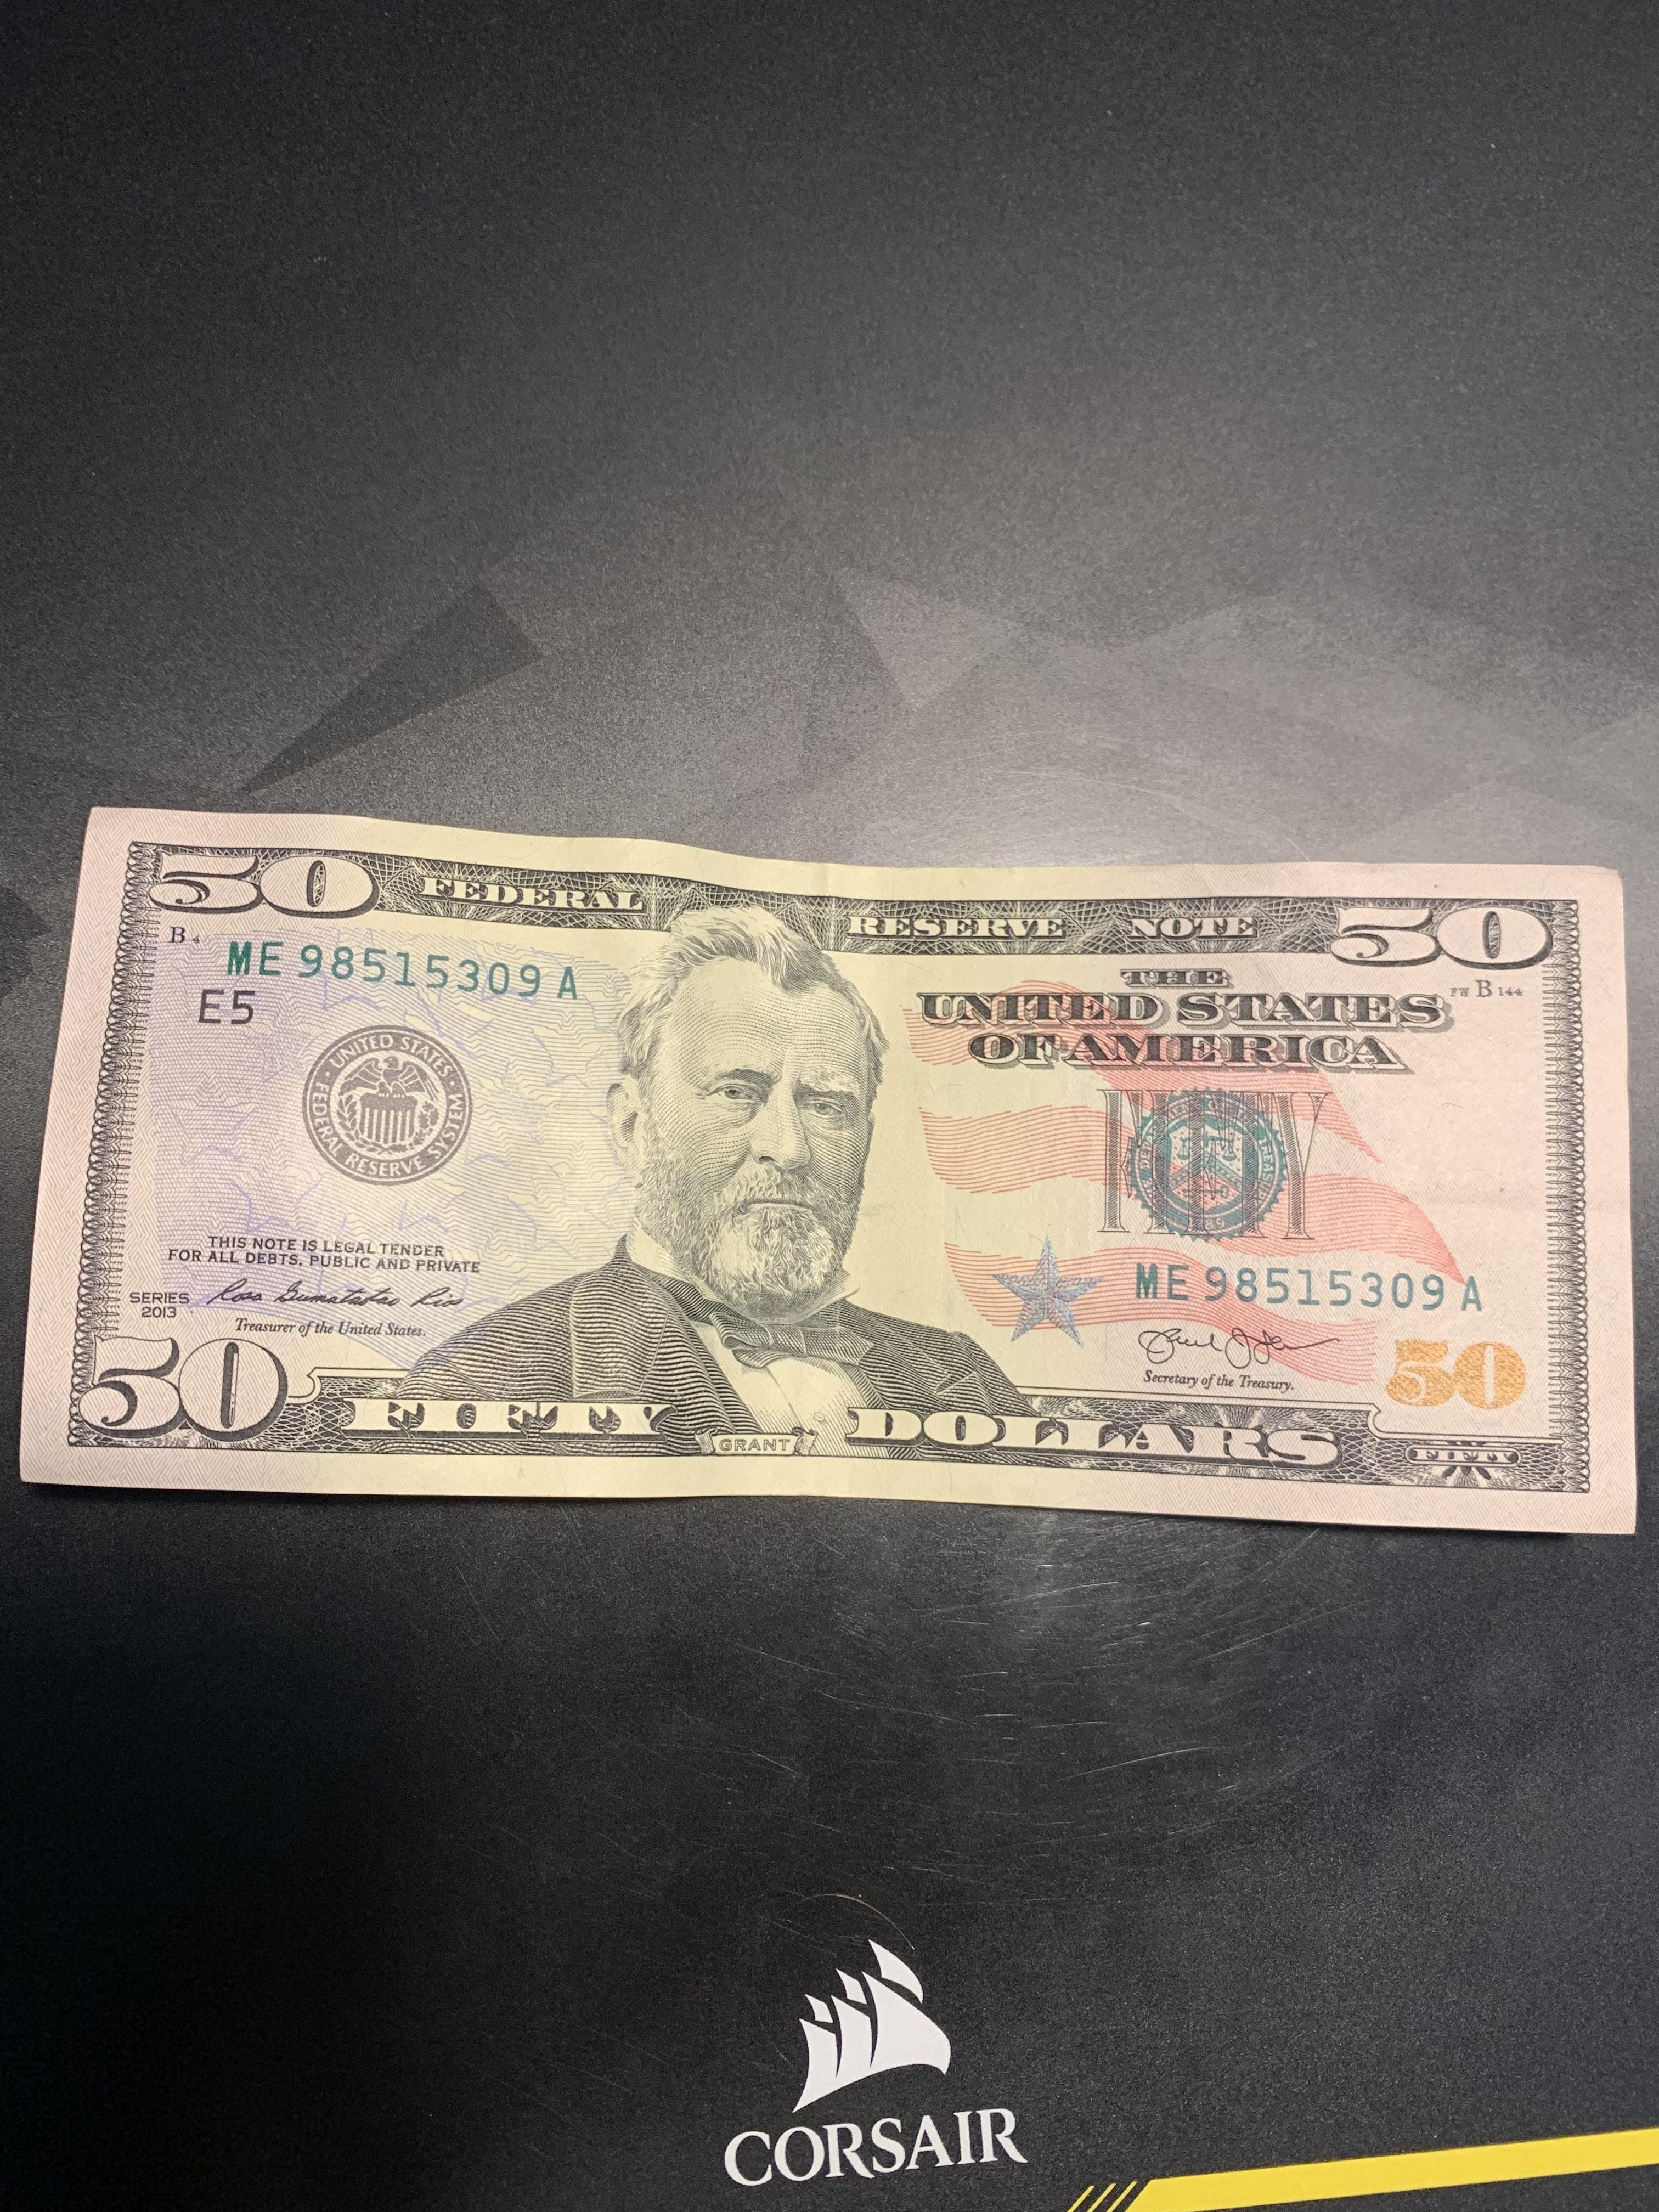FiftyBill: (7, 792, 1649, 1555)
